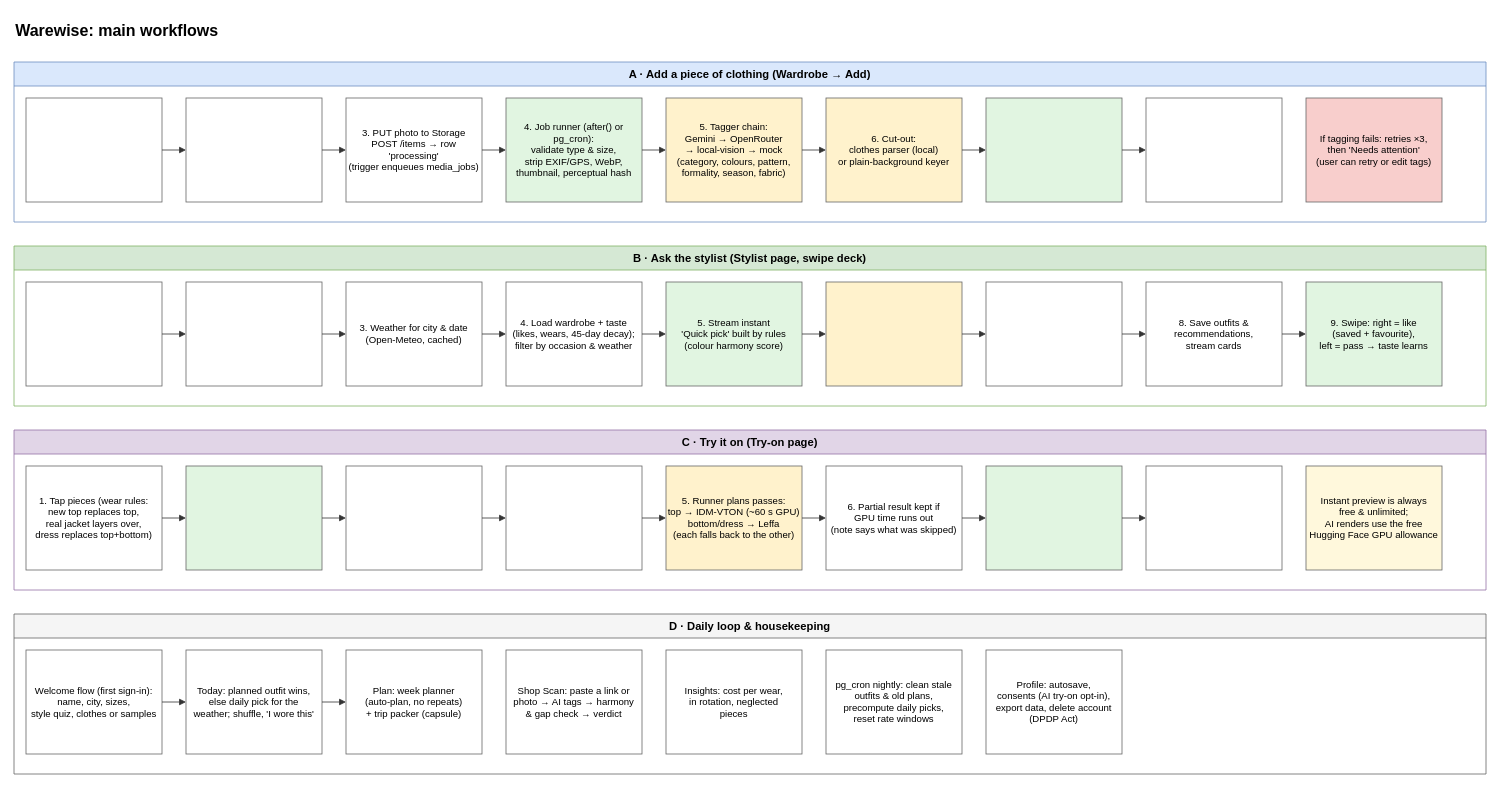
Some shapes in this 1500 by 788 pixel diagram are drawn without their labels. The centre of each missing label's shape, as x and y in pixels:
"1. Take or choose photos (camera or file picker; 2 uploads at a time)" goes at pixel 93 149.
"1. Tap an occasion chip or type ('client meeting, want to stay cool')" goes at pixel 93 333.
"2. POST /uploads → signed upload URL (cap 100/day)" goes at pixel 253 149.
"2. POST …/messages (SSE) occasion from text, daily cap check" goes at pixel 253 333.
"2. Quick preview, instant: cut-outs warped onto body landmarks (canvas)" goes at pixel 253 517.
"3. 'Make it realistic': consent check, cap 10/day; existing render reused" goes at pixel 413 517.
"4. POST /tryon → row 'pending' → tryon_jobs" goes at pixel 573 517.
"6. AI stylist chain picks outfits from item ids; validated, mood/colour filter" goes at pixel 893 333.
"7. Duplicate check (phash) save clean / thumb / cutout status → 'ready'" goes at pixel 1053 149.
"7. No valid AI outfits? rule engine fallback + 'what's missing' note" goes at pixel 1053 333.
"7. Render saved (WebP), viewer switches to 'Realistic' automatically" goes at pixel 1053 517.
"8. 3D: 'Looks like me' built from the render; or AI 3D (TRELLIS → .glb, 3/day)" goes at pixel 1213 517.
"8. Realtime update → card appears in the grid, ready for Stylist & Try-on" goes at pixel 1213 149.
